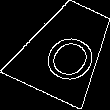O_NE: (30, 18, 100, 83)
